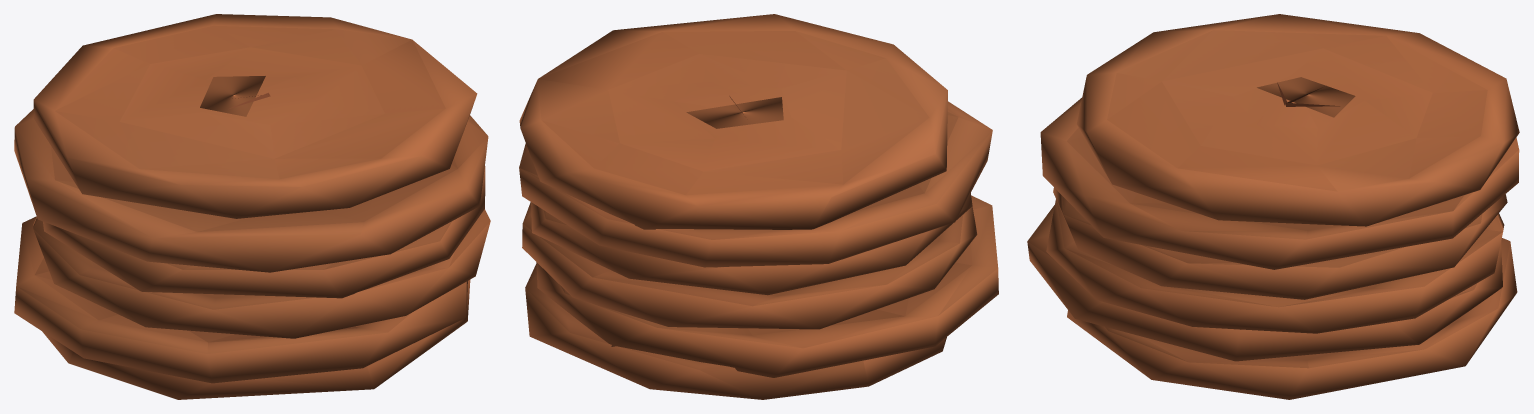
File: grotto_coin_stack_lod2.glb
The picture shows the model from 3 angles, left to right: view 1: azimuth 30°, elevation 25°; view 2: azimuth 150°, elevation 25°; view 3: azimuth 270°, elevation 25°; orthographic projection.
Visible parts, largest first — view 1: grotto_coin_stack.001; view 2: grotto_coin_stack.001; view 3: grotto_coin_stack.001.
Part boxes in pixels (bbox=[...]): grotto_coin_stack.001: bbox=[14, 14, 490, 399]; grotto_coin_stack.001: bbox=[519, 14, 998, 399]; grotto_coin_stack.001: bbox=[1027, 14, 1519, 399].
Bounding box in the file's own units: 5.54 × 2.71 × 5.56.
